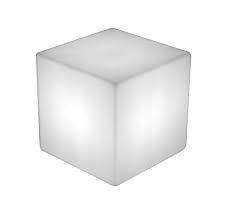cubos: (26, 23, 196, 188)
